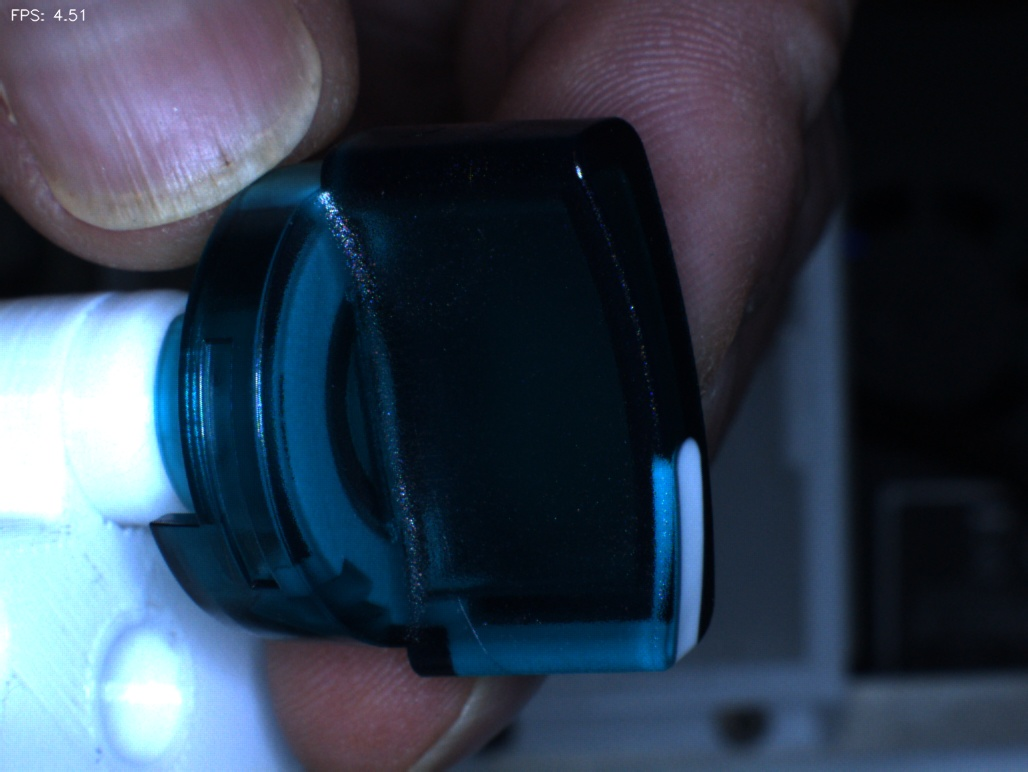Givrage: (425, 489, 505, 655)
